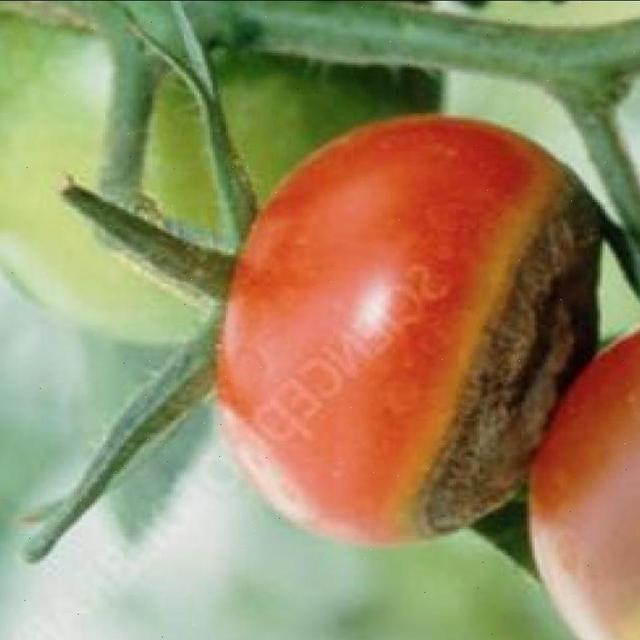Blossom End Rot Fruit: (268, 90, 390, 364)
